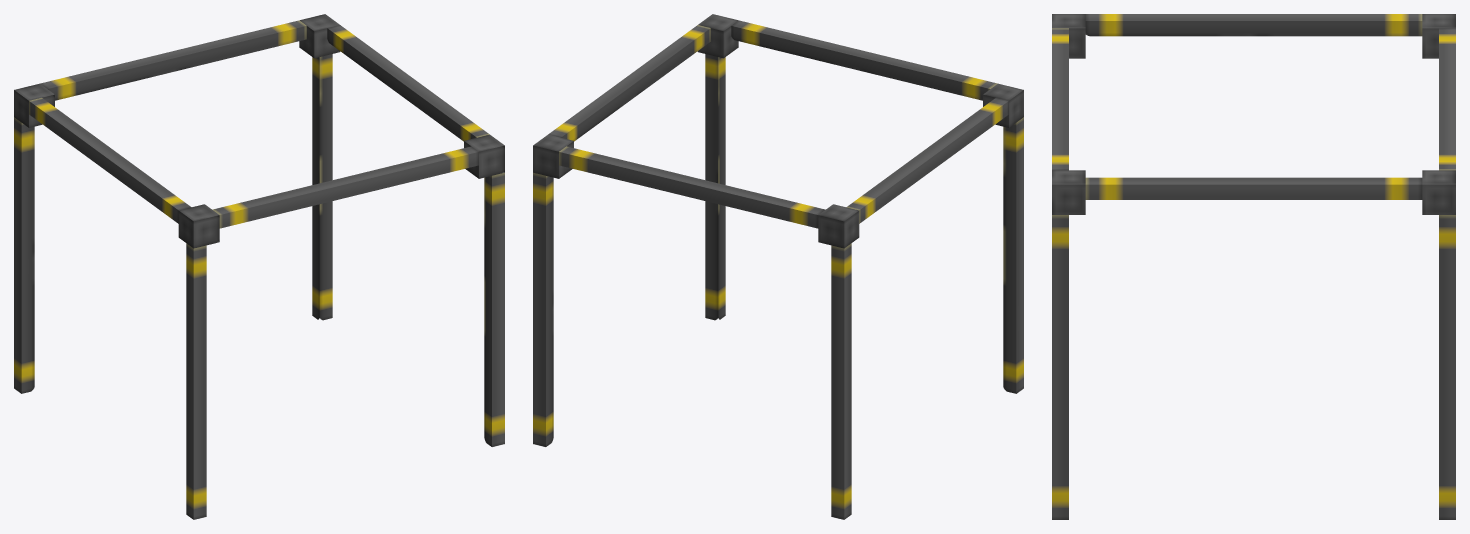
File: precass_frame.obj
The picture shows the model from 3 angles, left to right: view 1: azimuth 30°, elevation 25°; view 2: azimuth 150°, elevation 25°; view 3: azimuth 270°, elevation 25°; orthographic projection. The views are drawn at different scales.
Visible parts, largest first — view 1: Frame; view 2: Frame; view 3: Frame.
Part boxes in pixels (x1,y1,x2,y2): Frame: [14, 14, 504, 519]; Frame: [533, 14, 1023, 519]; Frame: [1052, 14, 1455, 519].
Size of the model in its own units: 3 by 2.75 by 3.
